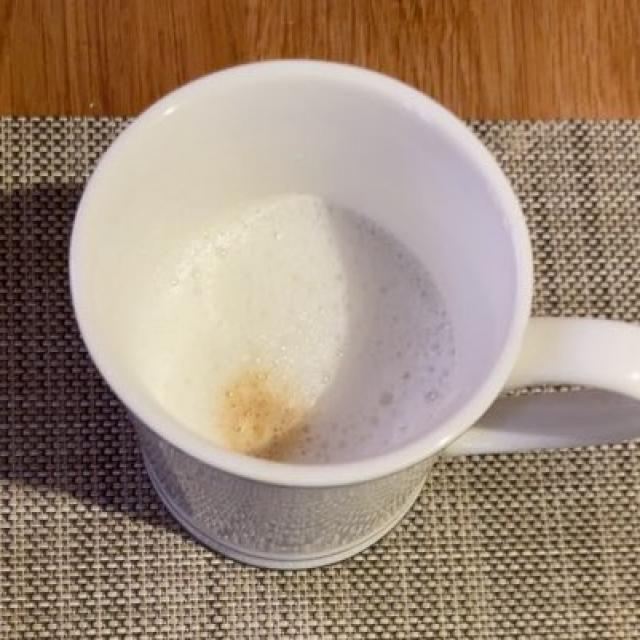coffee: (151, 199, 456, 458)
